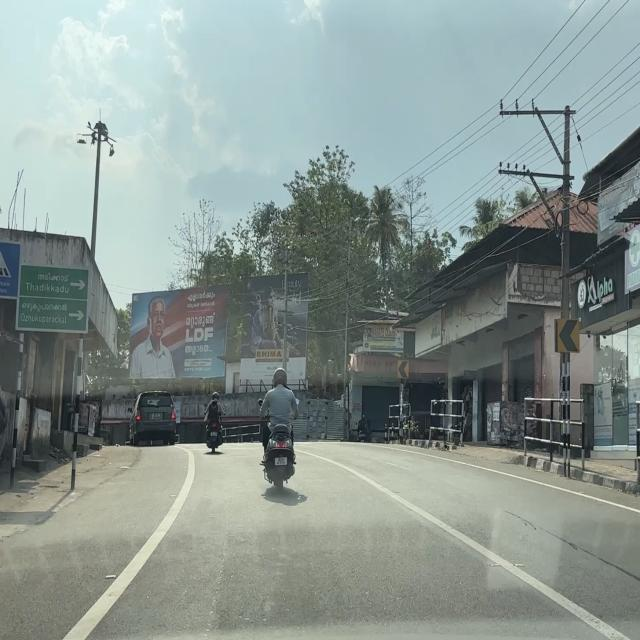GENERAL: (14, 264, 88, 332)
TURN_LEFT: (555, 318, 579, 354), (397, 360, 409, 379)
